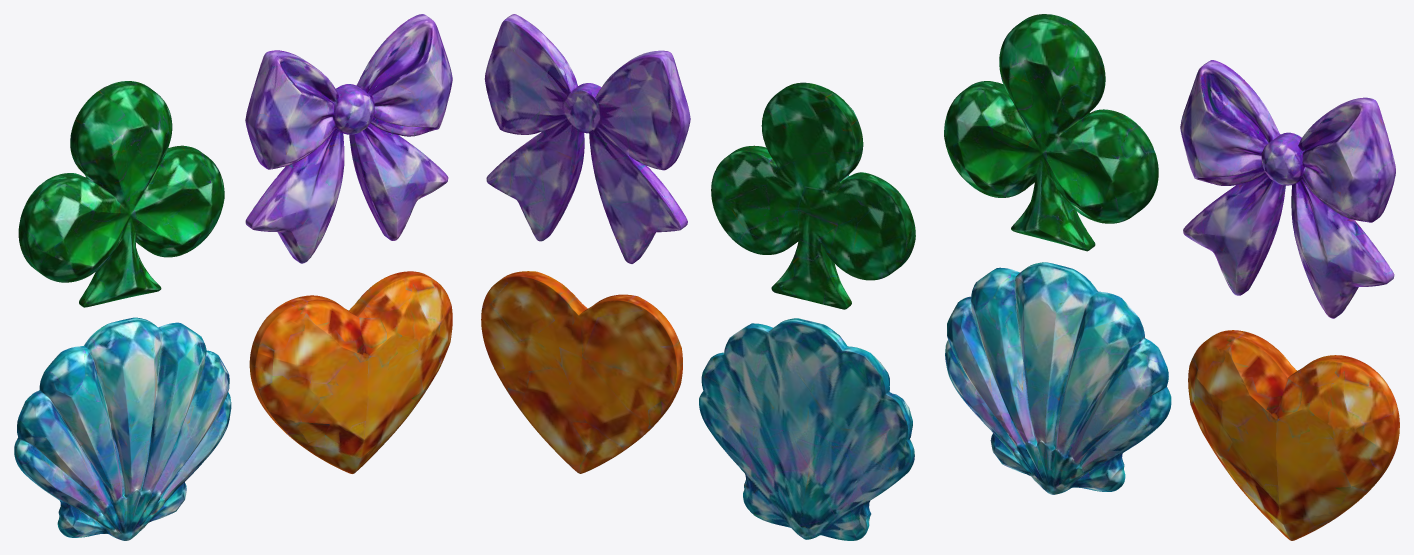
3 renders of one model, left to right at view 1: azimuth 30°, elevation 25°; view 2: azimuth 150°, elevation 25°; view 3: azimuth 330°, elevation 25°, orthographic. The views are drawn at different scales.
Parts seen in each view (by area): view 1: Mesh 1, Mesh 3, Mesh 2, Mesh 4; view 2: Mesh 1, Mesh 3, Mesh 2, Mesh 4; view 3: Mesh 1, Mesh 3, Mesh 2, Mesh 4.
Part boxes in pixels (box(x1,y1,x2,y2)): Mesh 1: box(14, 317, 231, 540); Mesh 3: box(245, 14, 452, 263); Mesh 2: box(18, 81, 224, 307); Mesh 4: box(249, 271, 452, 473); Mesh 1: box(699, 318, 914, 540); Mesh 3: box(484, 14, 690, 263); Mesh 2: box(711, 82, 915, 309); Mesh 4: box(481, 271, 682, 473); Mesh 1: box(945, 262, 1171, 494); Mesh 3: box(1180, 60, 1395, 318); Mesh 2: box(944, 14, 1158, 251); Mesh 4: box(1188, 330, 1399, 540).
Size of the model in its own units: 1.89 by 1.9 by 0.1604.
4 materials, 4 textured.
